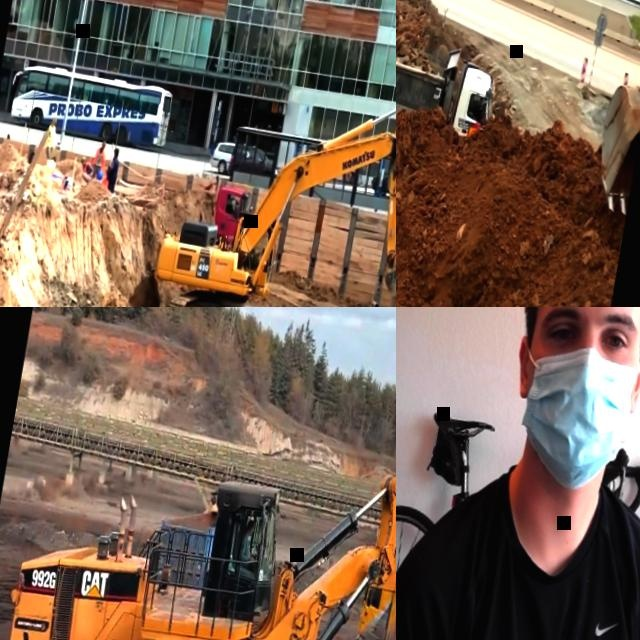Hardhat: (52, 117, 57, 124), (101, 140, 106, 147), (51, 155, 56, 161), (80, 156, 85, 162)
Mask: (504, 342, 640, 502)
NO-Hardhat: (245, 518, 254, 529), (113, 149, 119, 155)
NO-Mask: (247, 530, 252, 537)
NO-Safety Vest: (396, 466, 640, 640), (239, 534, 252, 558), (107, 159, 119, 183)
Person: (396, 307, 640, 640), (236, 517, 263, 571), (101, 147, 121, 193), (88, 138, 108, 181), (41, 116, 60, 160), (79, 157, 94, 176), (100, 167, 110, 187), (46, 154, 57, 169)
Safety Vest: (44, 124, 58, 148), (92, 148, 106, 169), (82, 162, 91, 175), (46, 159, 56, 169), (101, 176, 108, 186)
machinery: (0, 371, 396, 640), (141, 65, 396, 307), (396, 11, 505, 172), (148, 478, 274, 607), (207, 184, 255, 249)
vehicle: (8, 59, 176, 155), (225, 142, 282, 190), (206, 139, 251, 179), (368, 160, 396, 205)
